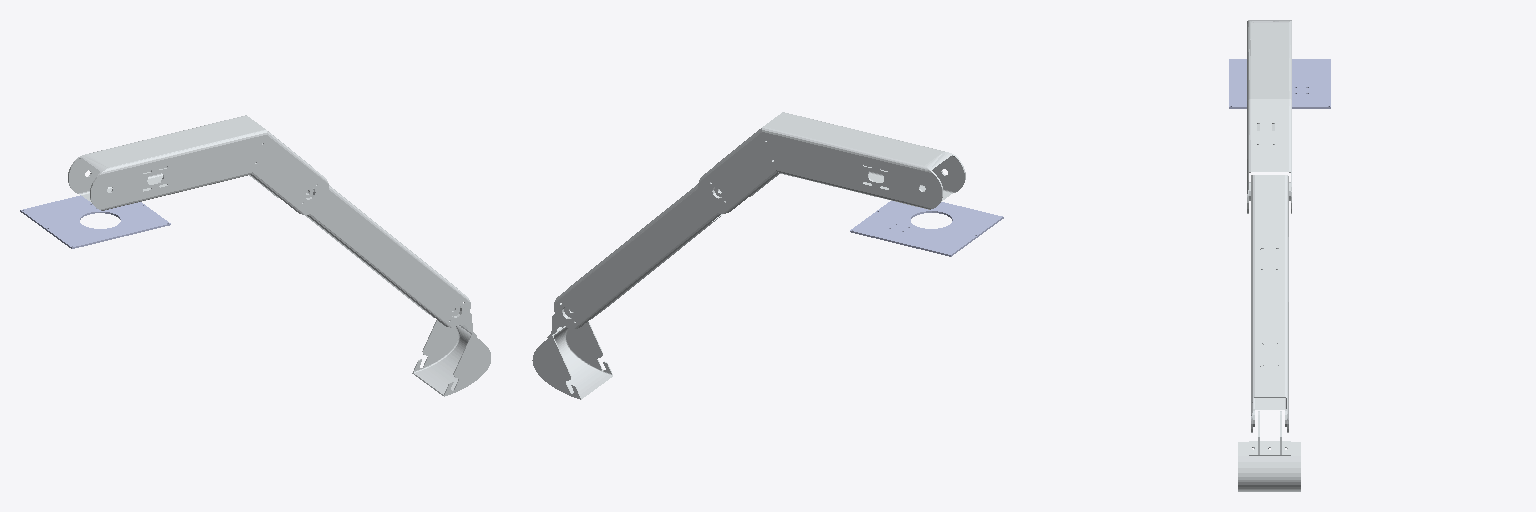
robot.urdf — arm_simulation_urdf:
<?xml version="1.0" encoding="utf-8"?>
<!-- This URDF was automatically created by SolidWorks to URDF Exporter! Originally created by Stephen Brawner ([email redacted])
     Commit Version: 1.6.0-1-g15f4949  Build Version: 1.6.7594.29634
     For more information, please see http://wiki.ros.org/sw_urdf_exporter -->
<robot
  name="arm_simulation_urdf">
  <!--Fake link without inertial properties to appease KDL-->
  <link
    name = "virtual_link">
  </link>

  <link
    name="base_link">
    <inertial>
      <origin
        xyz="0.095192 0.08773 0.0015875"
        rpy="0 0 0" />
      <mass
        value="0.091414" />
      <inertia
        ixx="0.00024615"
        ixy="1.8237E-07"
        ixz="-3.3633E-22"
        iyy="0.00030854"
        iyz="-5.1548E-23"
        izz="0.00055454" />
    </inertial>
    <visual>
      <origin
        xyz="0 0 0"
        rpy="0 0 0" />
      <geometry>
        <mesh
          filename="package://arm_simulation_urdf/meshes/base_link.STL" />
      </geometry>
      <material
        name="">
        <color
          rgba="0.79216 0.81961 0.93333 1" />
      </material>
    </visual>
    <collision>
      <origin
        xyz="0 0 0"
        rpy="0 0 0" />
      <geometry>
        <mesh
          filename="package://arm_simulation_urdf/meshes/base_link.STL" />
      </geometry>
    </collision>
  </link>
  <!--virtual joint to take care of virtual link-->
  <joint
    name = "virtual_joint_1"
    type = "fixed">
    <parent link="virtual_link"/>
    <child link="base_link"/>
  </joint>    
  <link
    name="waist_link">
    <inertial>
      <origin
        xyz="-0.011164 -0.012835 0.024768"
        rpy="0 0 0" />
      <mass
        value="0.2767" />
      <inertia
        ixx="0.00025393"
        ixy="2.1958E-06"
        ixz="1.4348E-19"
        iyy="0.0002269"
        iyz="-4.2962E-18"
        izz="0.00043362" />
    </inertial>
    <visual>
      <origin
        xyz="0 0 0"
        rpy="0 0 0" />
      <geometry>
        <mesh
          filename="package://arm_simulation_urdf/meshes/waist_link.STL" />
      </geometry>
      <material
        name="">
        <color
          rgba="0.79216 0.81961 0.93333 1" />
      </material>
    </visual>
    <collision>
      <origin
        xyz="0 0 0"
        rpy="0 0 0" />
      <geometry>
        <mesh
          filename="package://arm_simulation_urdf/meshes/waist_link.STL" />
      </geometry>
    </collision>
  </link>
  <joint
    name="waist"
    type="revolute">
    <origin
      xyz="0.09525 0.06985 0.003175"
      rpy="0 0 0" />
    <parent
      link="base_link" />
    <child
      link="waist_link" />
    <axis
      xyz="0 0 1" />
    <limit
      lower="-3.14"
      upper="3.14"
      effort="10"
      velocity="10" />
  </joint>
  <link
    name="shoulder_link">
    <inertial>
      <origin
        xyz="0.19756 1.8568E-05 -0.012791"
        rpy="0 0 0" />
      <mass
        value="1.0561" />
      <inertia
        ixx="0.0026076"
        ixy="-2.904E-06"
        ixz="0.0022586"
        iyy="0.017622"
        iyz="3.9599E-10"
        izz="0.016951" />
    </inertial>
    <visual>
      <origin
        xyz="0 0 0"
        rpy="0 0 0" />
      <geometry>
        <mesh
          filename="package://arm_simulation_urdf/meshes/shoulder_link.STL" />
      </geometry>
      <material
        name="">
        <color
          rgba="0.89804 0.91765 0.92941 1" />
      </material>
    </visual>
    <collision>
      <origin
        xyz="0 0 0"
        rpy="0 0 0" />
      <geometry>
        <mesh
          filename="package://arm_simulation_urdf/meshes/shoulder_link.STL" />
      </geometry>
    </collision>
  </link>
  <joint
    name="shoulder"
    type="revolute">
    <origin
      xyz="-0.0037159 -0.0013538 0.072656"
      rpy="0 0 0" />
    <parent
      link="waist_link" />
    <child
      link="shoulder_link" />
    <axis
      xyz="0 1 0" />
    <limit
      lower="-3.14"
      upper="0.20"
      effort="10"
      velocity="10" />
  </joint>
  <link
    name="elbow_link">
    <inertial>
      <origin
        xyz="0.19985 5.2725E-09 0.0011935"
        rpy="0 0 0" />
      <mass
        value="0.80172" />
      <inertia
        ixx="0.00095125"
        ixy="-5.1408E-10"
        ixz="0.00021056"
        iyy="0.012015"
        iyz="-2.2103E-11"
        izz="0.012074" />
    </inertial>
    <visual>
      <origin
        xyz="0 0 0"
        rpy="0 0 0" />
      <geometry>
        <mesh
          filename="package://arm_simulation_urdf/meshes/elbow_link.STL" />
      </geometry>
      <material
        name="">
        <color
          rgba="0.89804 0.91765 0.92941 1" />
      </material>
    </visual>
    <collision>
      <origin
        xyz="0 0 0"
        rpy="0 0 0" />
      <geometry>
        <mesh
          filename="package://arm_simulation_urdf/meshes/elbow_link.STL" />
      </geometry>
    </collision>
  </link>
  <joint
    name="elbow"
    type="revolute">
    <origin
      xyz="0.38496 0 -0.096803"
      rpy="0 0.7854 0" />
    <parent
      link="shoulder_link" />
    <child
      link="elbow_link" />
    <axis
      xyz="0 1 0" />
    <limit
      lower="-1.17"
      upper="2.25"
      effort="10"
      velocity="10" />
  </joint>
  <link
    name="wrist_link">
    <inertial>
      <origin
        xyz="0.079682 1.2703E-06 -0.049588"
        rpy="0 0 0" />
      <mass
        value="0.16196" />
      <inertia
        ixx="0.00039422"
        ixy="7.0499E-09"
        ixz="2.5622E-05"
        iyy="0.00022921"
        iyz="-1.2793E-08"
        izz="0.00028411" />
    </inertial>
    <visual>
      <origin
        xyz="0 0 0"
        rpy="0 0 0" />
      <geometry>
        <mesh
          filename="package://arm_simulation_urdf/meshes/wrist_link.STL" />
      </geometry>
      <material
        name="">
        <color
          rgba="0.89804 0.91765 0.92941 1" />
      </material>
    </visual>
    <collision>
      <origin
        xyz="0 0 0"
        rpy="0 0 0" />
      <geometry>
        <mesh
          filename="package://arm_simulation_urdf/meshes/wrist_link.STL" />
      </geometry>
    </collision>
  </link>
  <joint
    name="wrist"
    type="revolute">
    <origin
      xyz="0.40555 0 0"
      rpy="0 0 0" />
    <parent
      link="elbow_link" />
    <child
      link="wrist_link" />
    <axis
      xyz="0 1 0" />
    <limit
      lower="-1.91"
      upper="1.87"
      effort="10"
      velocity="10" />
  </joint>
</robot>

--- Facts derived from the render (not from the file) ---
3 views of the same robot in one strip: view 1: azimuth 30°, elevation 25°; view 2: azimuth 150°, elevation 25°; view 3: azimuth 270°, elevation 25° (orthographic).
Model arm_simulation_urdf with 6 links and 5 joints (4 revolute, 1 fixed), rooted at virtual_link, posed all joints at 0.
Visible links, largest first — view 1: shoulder_link, elbow_link, wrist_link, base_link; view 2: shoulder_link, elbow_link, base_link, wrist_link; view 3: elbow_link, shoulder_link, wrist_link, base_link.
Boxes of the visible links, bbox=[...] form: shoulder_link: bbox=[68, 115, 329, 214]; elbow_link: bbox=[302, 184, 470, 327]; wrist_link: bbox=[412, 306, 490, 396]; base_link: bbox=[20, 195, 170, 248]; shoulder_link: bbox=[698, 112, 965, 213]; elbow_link: bbox=[554, 182, 723, 328]; base_link: bbox=[850, 201, 1003, 256]; wrist_link: bbox=[532, 307, 612, 399]; elbow_link: bbox=[1251, 175, 1288, 432]; shoulder_link: bbox=[1247, 20, 1291, 213]; wrist_link: bbox=[1238, 411, 1300, 491]; base_link: bbox=[1229, 59, 1330, 108].
Bounding box of the posed robot: 0.8182 × 0.1715 × 0.5612 m (x, y, z).
4 mesh visuals loaded from 5 distinct referenced files (4 binary STL); not drawn: 1 (reference not matched to a file when rendering).
